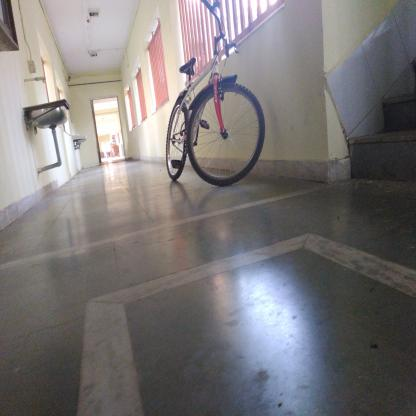stairs: (382, 95, 416, 196)
